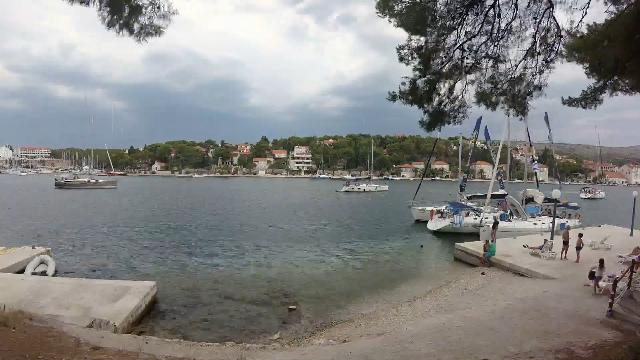Sailboat: (47, 167, 123, 193), (330, 172, 394, 196)
